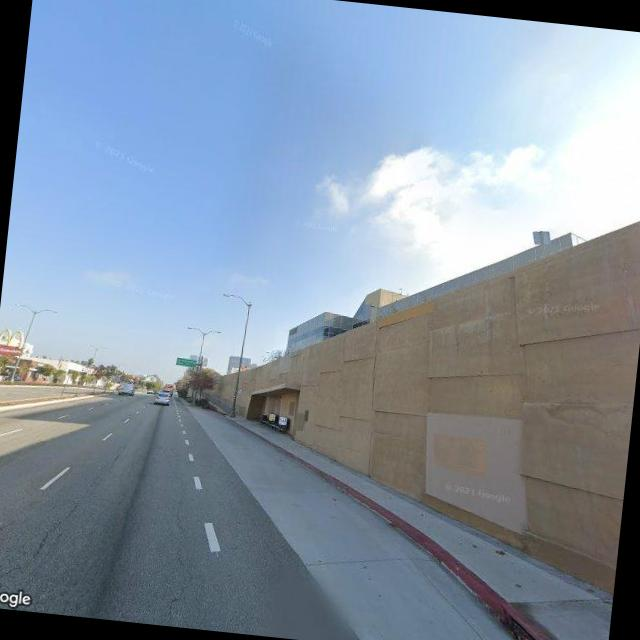pothole: (0, 493, 80, 591)
